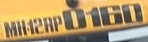character: (61, 7, 88, 30), (99, 3, 123, 26), (120, 1, 143, 24), (85, 6, 101, 27), (3, 20, 18, 38), (41, 15, 54, 33), (15, 19, 27, 36), (51, 14, 63, 31), (33, 17, 44, 34), (27, 18, 35, 34)
